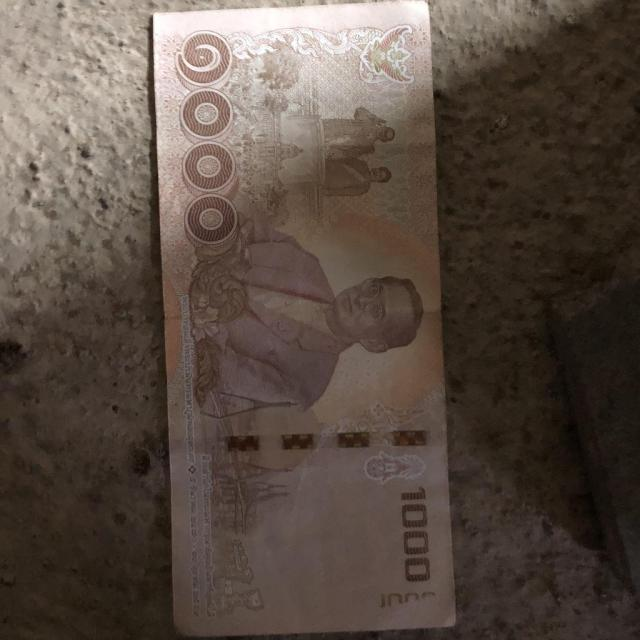THAI1000: (149, 0, 457, 638)
